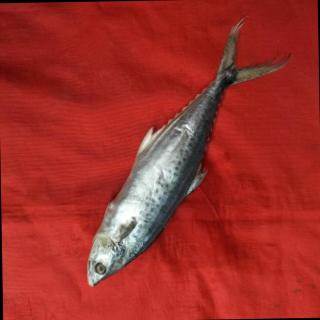Ikan: (80, 25, 265, 299)
